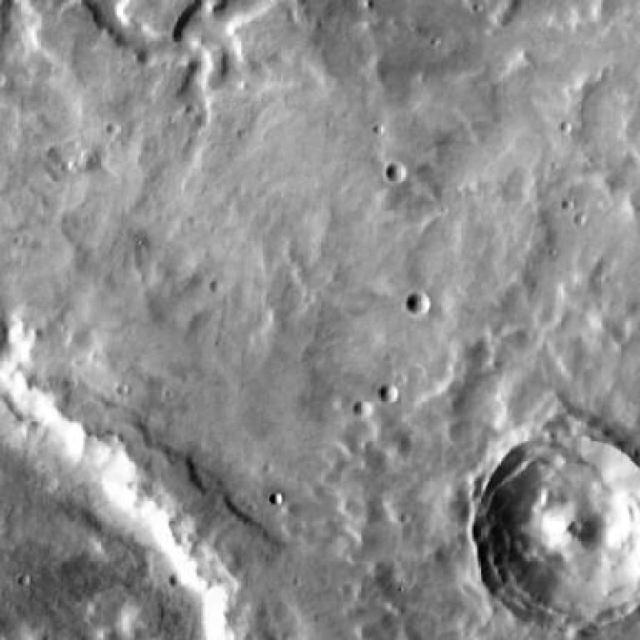crater: (480, 434, 640, 631), (407, 290, 430, 313), (353, 396, 376, 419), (384, 162, 405, 183), (380, 382, 400, 402)
